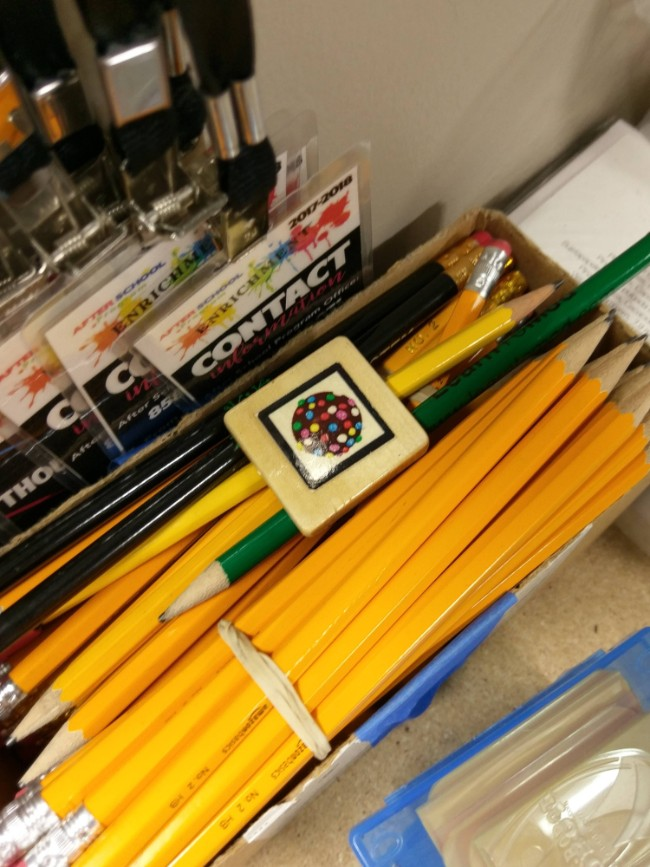cookie: (262, 370, 388, 479)
